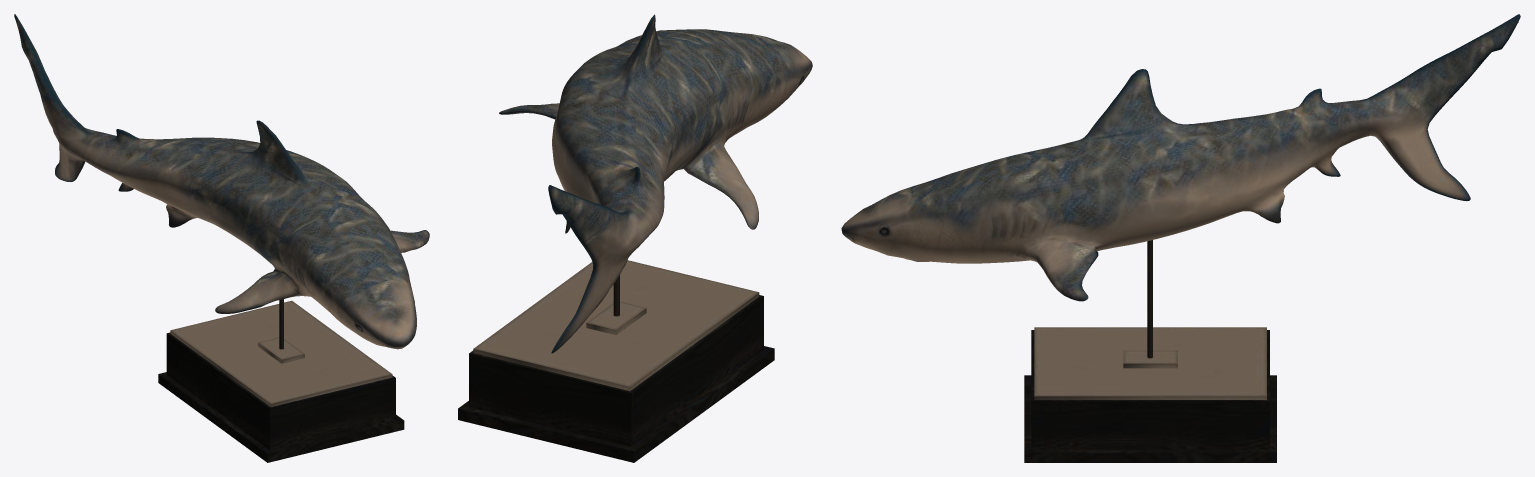
File: bronze_shark_statue.glb
3 views of the same model, side by side, from view 1: azimuth 30°, elevation 25°; view 2: azimuth 150°, elevation 25°; view 3: azimuth 270°, elevation 25° (orthographic). The views are drawn at different scales.
Parts seen in each view (by area): view 1: bronze_shark_statue; view 2: bronze_shark_statue; view 3: bronze_shark_statue.
Boxes of the visible parts, x1=… form: bronze_shark_statue: x1=14, y1=14, x2=429, y2=462; bronze_shark_statue: x1=458, y1=14, x2=812, y2=462; bronze_shark_statue: x1=841, y1=14, x2=1520, y2=462.
Bounding box in the file's own units: 0.352 × 0.4316 × 0.7598.
1 material, 1 textured.
